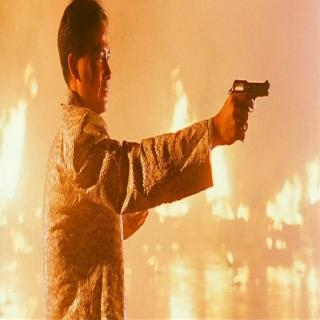gun: (226, 76, 270, 146)
